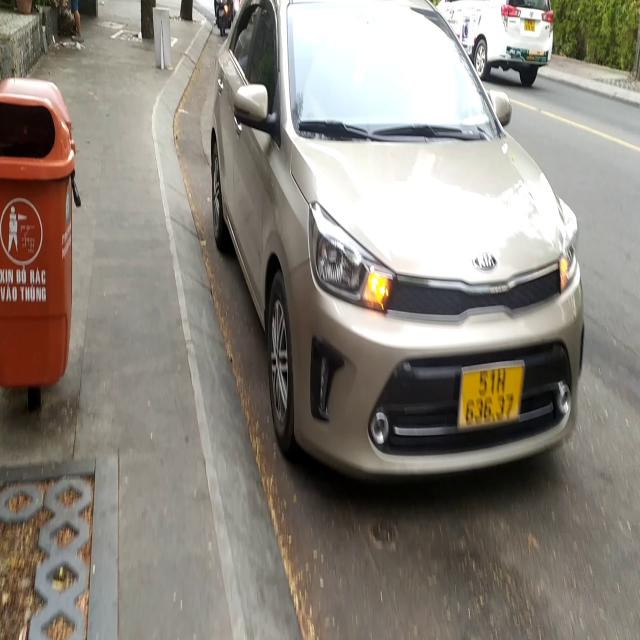bien_vang: (464, 358, 524, 438)
